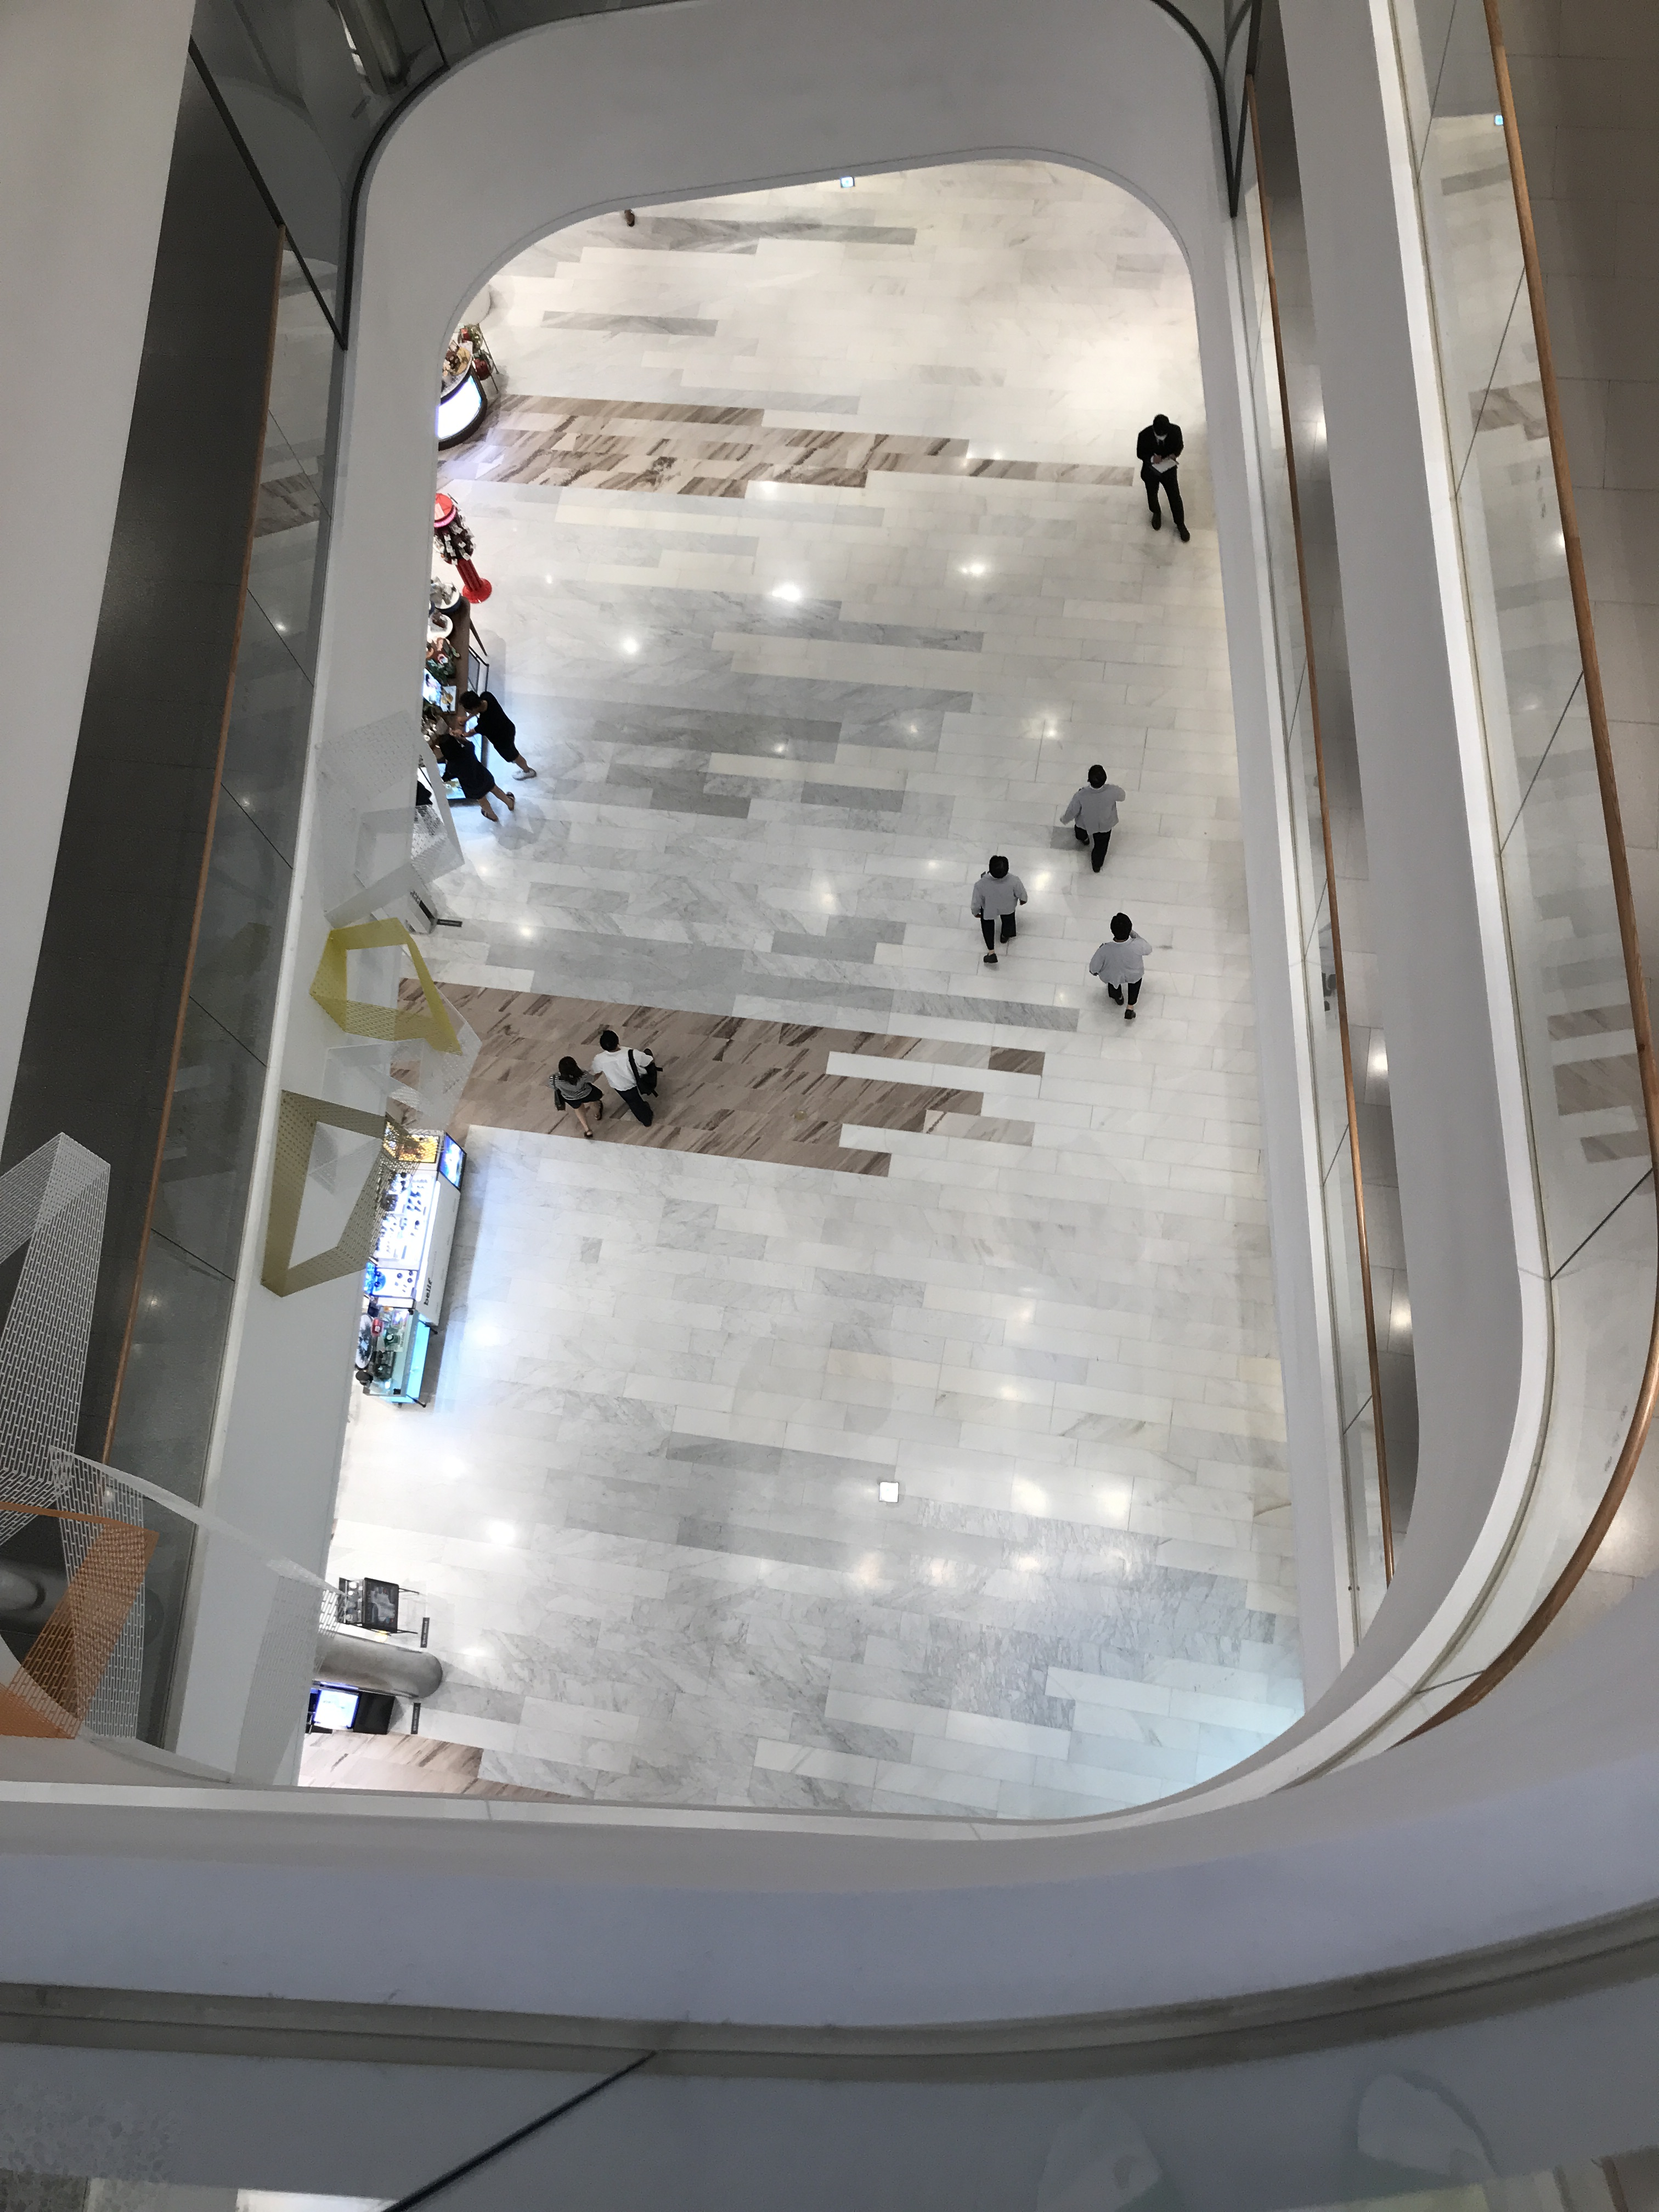person: (450, 693, 533, 788), (1136, 414, 1198, 541), (1060, 764, 1130, 872), (1085, 915, 1153, 1024), (435, 735, 518, 822), (586, 1032, 665, 1122), (970, 855, 1024, 969), (549, 1053, 606, 1136)
